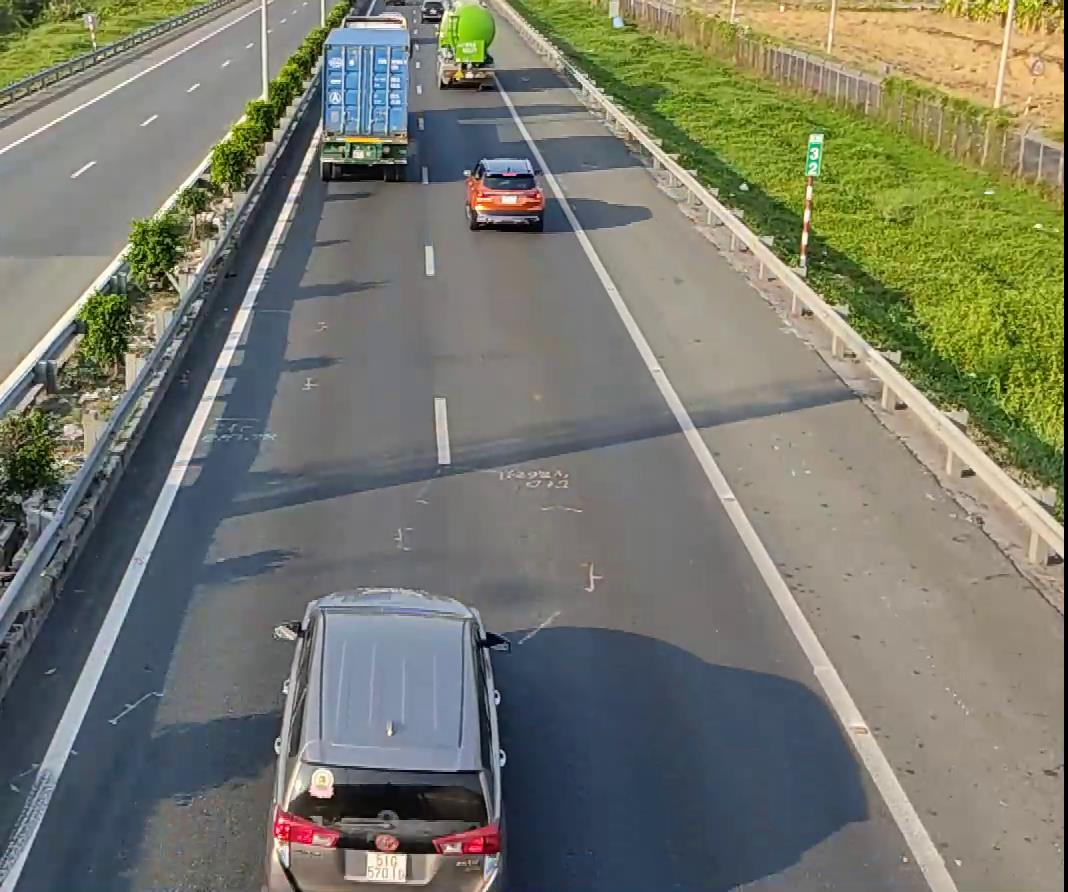car: (268, 580, 509, 885), (463, 157, 545, 230)
container: (315, 7, 413, 180), (434, 0, 495, 89)
